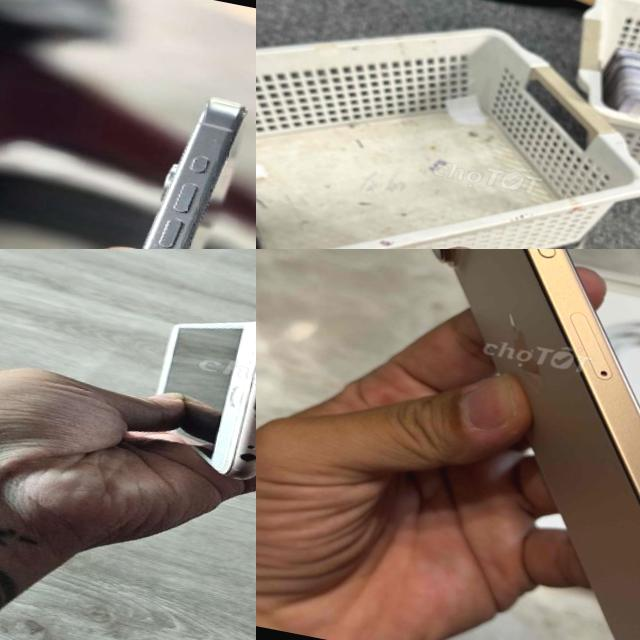gen_15: (36, 72, 247, 249)
gen_16: (432, 249, 640, 640)
gen_6: (158, 320, 256, 480)
